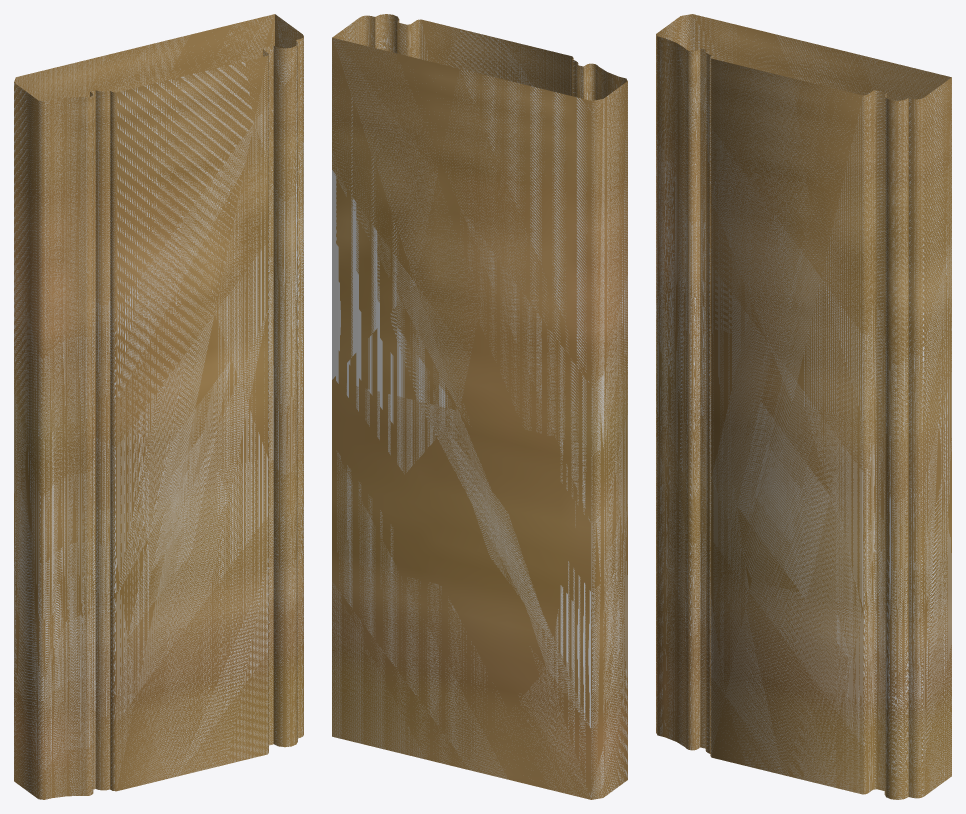
File: original-28.obj
3 renders of one model, left to right at view 1: azimuth 30°, elevation 25°; view 2: azimuth 150°, elevation 25°; view 3: azimuth 330°, elevation 25°, orthographic.
Visible parts, largest first — view 1: GRB_11_TC1/GRB_11_TC/mesh16/mesh16-geometry#mesh16-geometry; view 2: GRB_11_TC1/GRB_11_TC/mesh16/mesh16-geometry#mesh16-geometry; view 3: GRB_11_TC1/GRB_11_TC/mesh16/mesh16-geometry#mesh16-geometry.
Boxes of the visible parts, x1=… form: GRB_11_TC1/GRB_11_TC/mesh16/mesh16-geometry#mesh16-geometry: x1=14, y1=14, x2=303, y2=799; GRB_11_TC1/GRB_11_TC/mesh16/mesh16-geometry#mesh16-geometry: x1=332, y1=14, x2=627, y2=799; GRB_11_TC1/GRB_11_TC/mesh16/mesh16-geometry#mesh16-geometry: x1=656, y1=14, x2=951, y2=799.
Size of the model in its own units: 0.1001 by 0.2512 by 0.0266.
